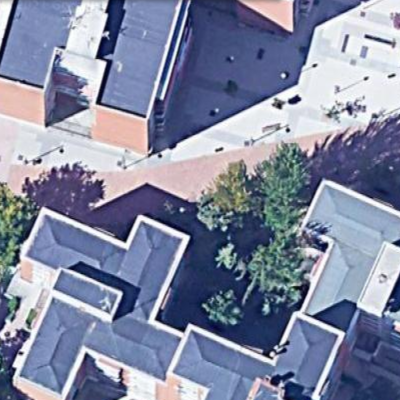tree: (193, 153, 257, 238), (259, 143, 316, 235), (239, 241, 312, 310), (1, 175, 40, 279), (200, 286, 248, 333)
